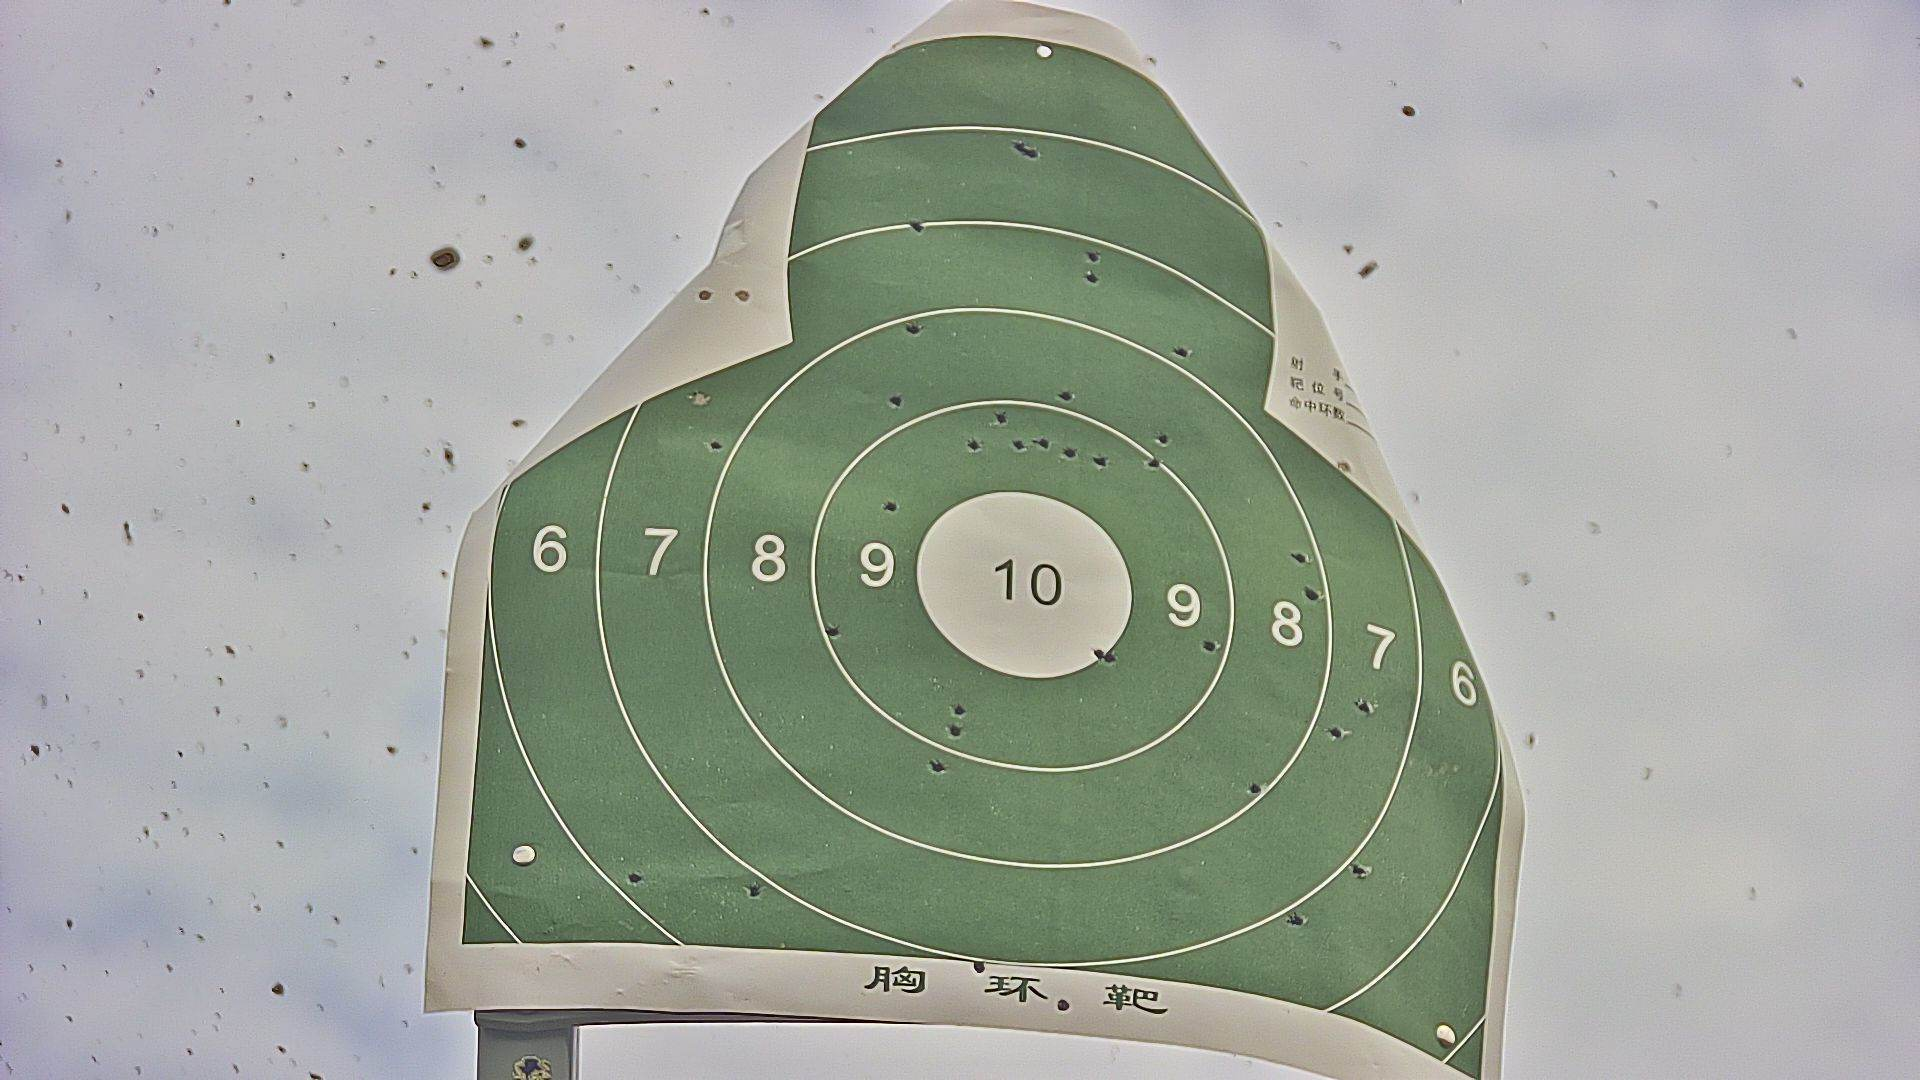hole: (1303, 584, 1321, 605), (1356, 699, 1373, 716), (1349, 861, 1367, 877), (1106, 647, 1120, 667), (1286, 913, 1305, 926), (1036, 41, 1052, 57), (745, 882, 761, 898), (971, 957, 986, 973), (1291, 549, 1307, 564), (692, 392, 708, 406), (1062, 444, 1077, 459), (1246, 779, 1261, 795), (735, 289, 749, 305), (1331, 724, 1344, 741), (913, 216, 924, 235), (930, 760, 944, 774), (823, 622, 839, 636), (1058, 388, 1071, 404), (695, 287, 711, 301), (1338, 460, 1354, 473), (1026, 144, 1038, 161), (708, 440, 727, 451), (1085, 269, 1098, 284), (628, 870, 642, 884), (1054, 997, 1068, 1010), (948, 724, 961, 738), (1092, 454, 1106, 467), (1087, 251, 1102, 262), (967, 438, 978, 454), (994, 409, 1006, 425), (1175, 344, 1188, 357), (1011, 438, 1025, 451), (1203, 638, 1216, 651), (889, 393, 901, 407), (1156, 430, 1168, 444), (1035, 436, 1048, 448), (1095, 646, 1105, 661), (909, 319, 919, 332), (1014, 137, 1023, 152), (884, 501, 895, 512), (1147, 456, 1158, 468), (953, 704, 967, 713)
kernel: (1021, 580, 1025, 584)
target: (458, 40, 1505, 1080)
ten: (913, 489, 1130, 676)
